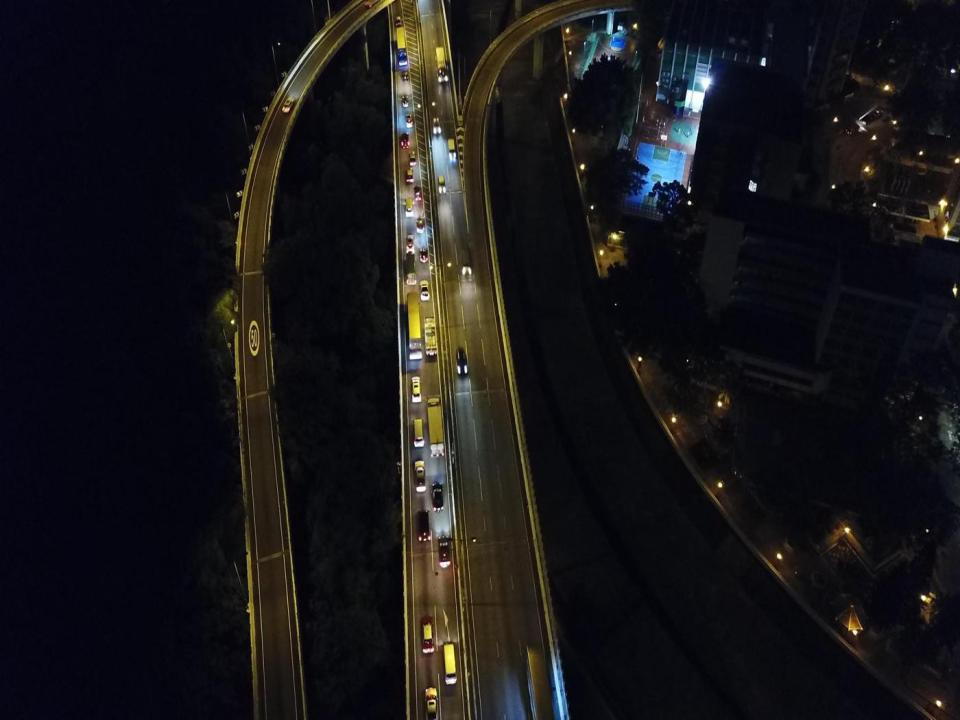bus: (406, 291, 422, 360)
car: (420, 615, 435, 653), (424, 686, 440, 719), (417, 509, 431, 543), (437, 534, 450, 569), (431, 481, 444, 512), (414, 459, 426, 492), (455, 346, 468, 376), (410, 375, 422, 403), (460, 247, 471, 274), (281, 96, 296, 113), (419, 280, 430, 300), (405, 234, 415, 255), (447, 138, 456, 157), (416, 216, 425, 234), (437, 175, 446, 193), (432, 117, 441, 135), (419, 247, 429, 263), (405, 166, 414, 183), (404, 113, 414, 128), (413, 185, 422, 201), (400, 94, 410, 108), (401, 133, 410, 148), (408, 151, 416, 166), (400, 68, 408, 80), (395, 16, 402, 26)
truck: (427, 397, 445, 458), (423, 316, 438, 356), (396, 26, 408, 70), (436, 47, 448, 82), (405, 251, 417, 285)
van: (442, 642, 458, 684), (412, 417, 424, 446), (404, 197, 413, 218)
